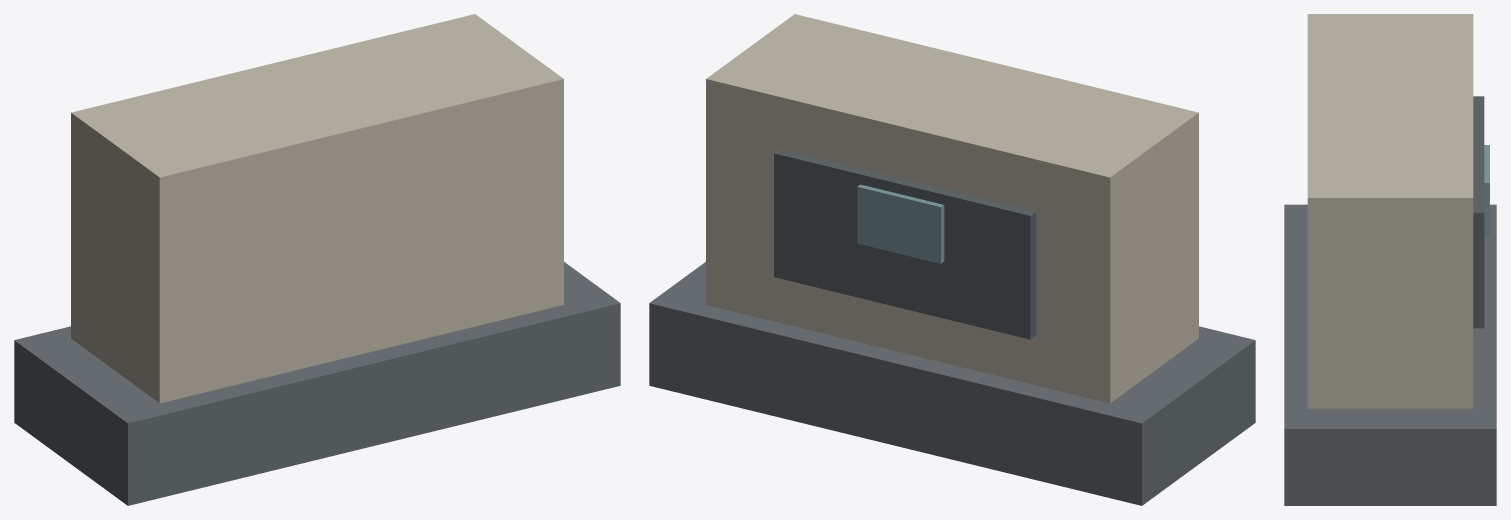
Rendered from iz3_health_lab_01.glb.
3 renders of one model, left to right at view 1: azimuth 30°, elevation 25°; view 2: azimuth 150°, elevation 25°; view 3: azimuth 270°, elevation 25°, orthographic. The views are drawn at different scales.
Visible parts, largest first — view 1: cabinet, base; view 2: cabinet, base, panel, display; view 3: cabinet, base, panel, display.
Part boxes in pixels (box(x1,y1,x2,y2)): cabinet: box(71, 14, 563, 403); base: box(14, 262, 620, 505); cabinet: box(706, 14, 1198, 403); base: box(649, 262, 1255, 505); panel: box(774, 149, 1036, 339); display: box(857, 184, 944, 263); cabinet: box(1307, 14, 1473, 408); base: box(1284, 204, 1496, 505); panel: box(1473, 96, 1484, 328); display: box(1484, 145, 1489, 235).
Bounding box in the file's own units: 2 × 1.2 × 0.8.
